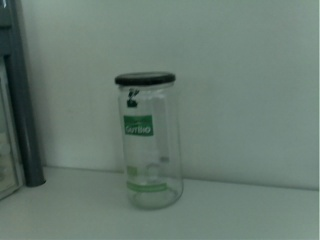pote cristal: (113, 73, 184, 209)
